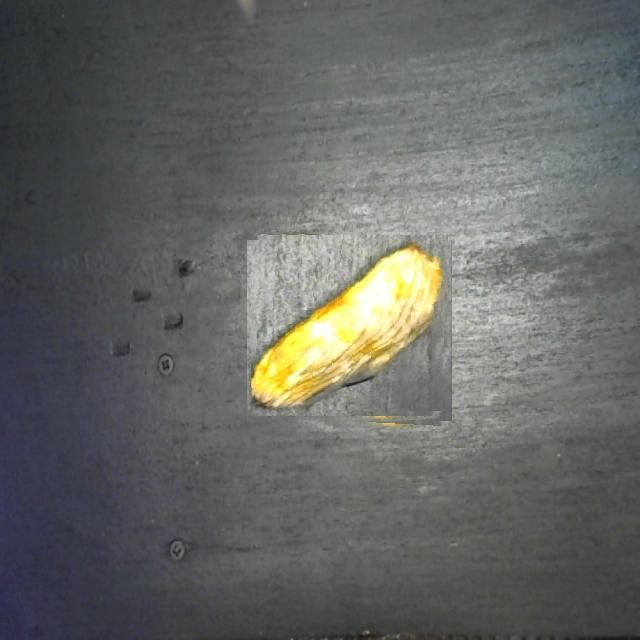biodegradable: (251, 232, 449, 429)
